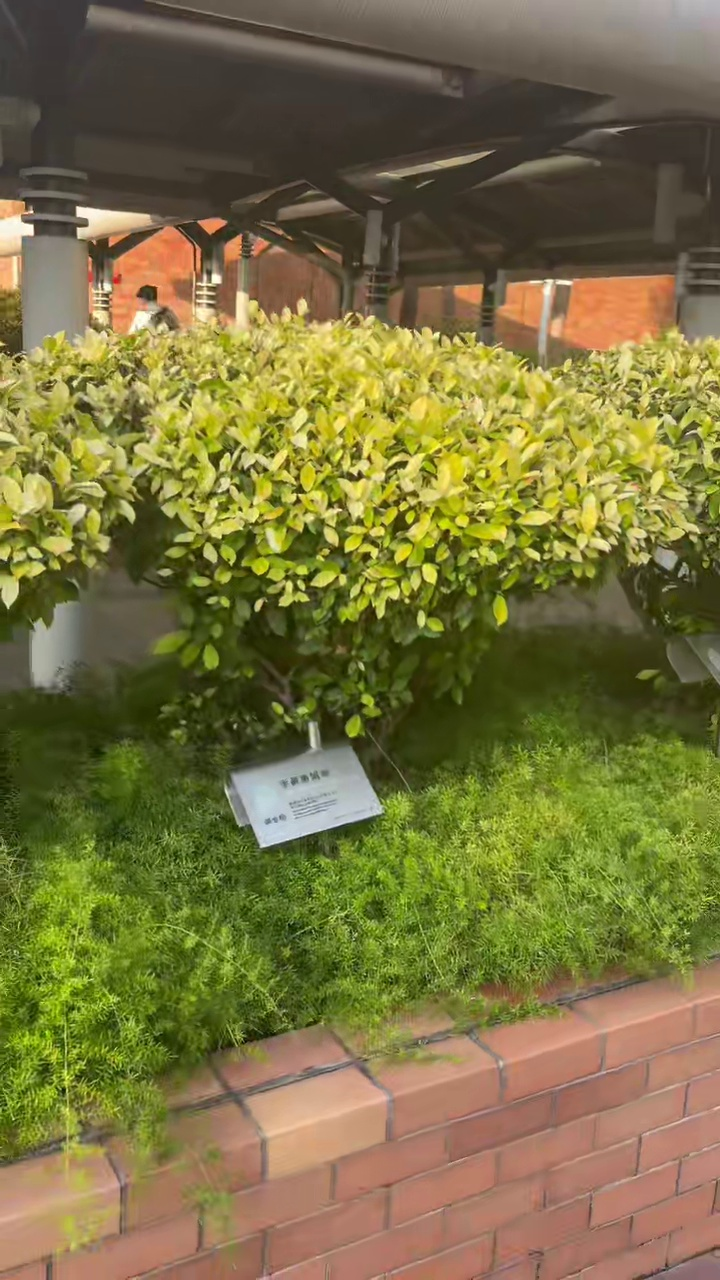Golden-leaves Fig: (132, 314, 698, 737)
